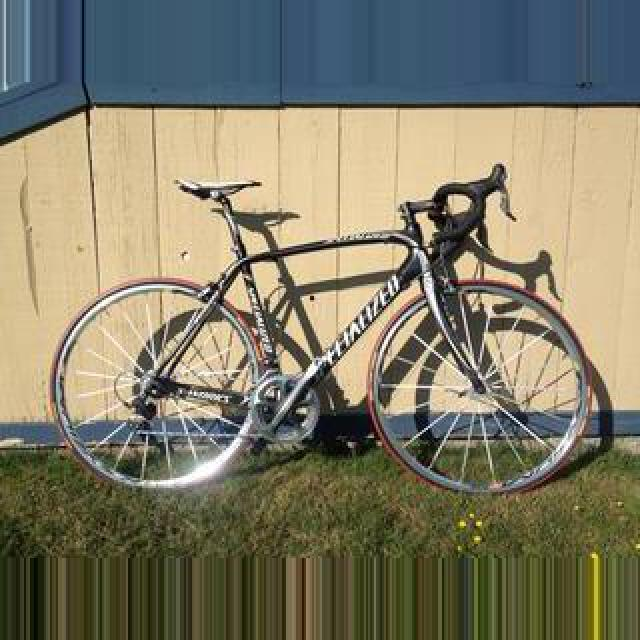Person: (57, 175, 605, 509)
